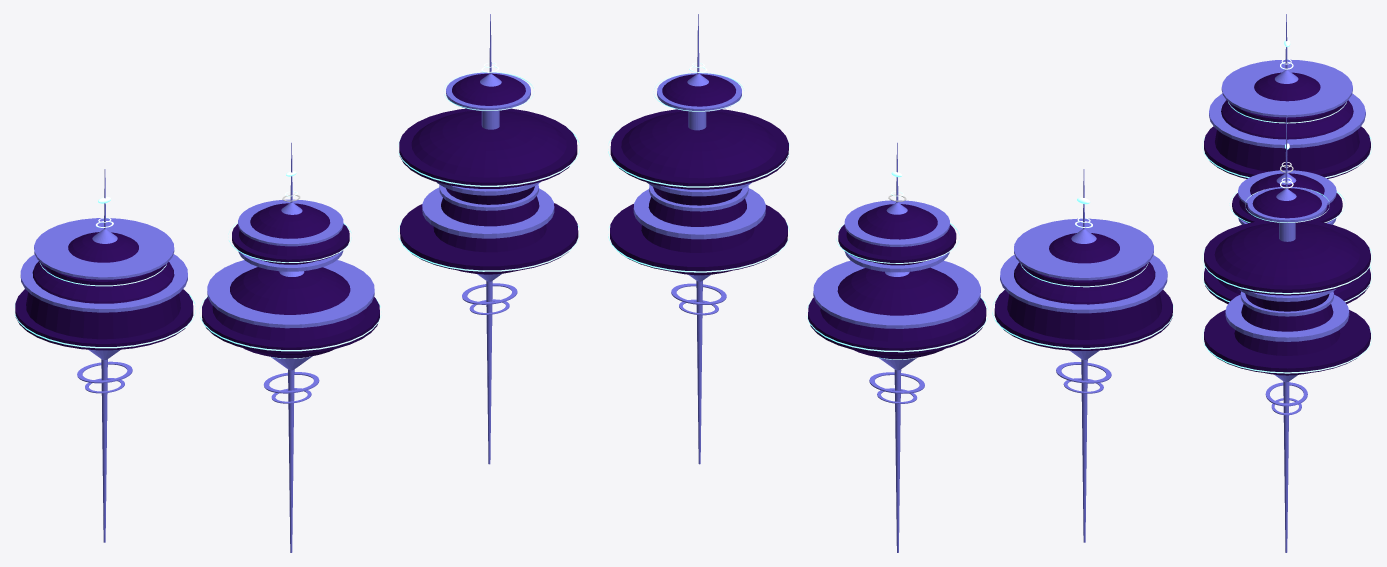
File: contactBuilding.glb
3 renders of one model, left to right at view 1: azimuth 30°, elevation 25°; view 2: azimuth 150°, elevation 25°; view 3: azimuth 270°, elevation 25°, orthographic. The views are drawn at different scales.
Visible parts, largest first — view 1: Sphere.025, Sphere.014, Sphere.023, Cylinder.011, Cylinder.010, Cylinder.016, Cylinder.017, Cylinder.018, Sphere.020, Cylinder.015, Cylinder.008, Cylinder.021 (+12 smaller); view 2: Sphere.025, Sphere.014, Sphere.023, Cylinder.011, Cylinder.010, Cylinder.016, Cylinder.017, Cylinder.018, Sphere.020, Cylinder.015, Cylinder.008, Cylinder.021 (+12 smaller); view 3: Sphere.025, Sphere.014, Cylinder.010, Cylinder.011, Cylinder.017, Cylinder.018, Cylinder.007, Cylinder.021, Cylinder.008, Sphere.026, Sphere.017, Cylinder.015 (+14 smaller).
Part boxes in pixels (box(x1,y1,x2,y2)): Sphere.025: box(411, 110, 566, 177); Sphere.014: box(26, 261, 180, 339); Sphere.023: box(212, 267, 367, 341); Cylinder.011: box(400, 203, 578, 272); Cylinder.010: box(34, 218, 174, 279); Cylinder.016: box(207, 260, 374, 328); Cylinder.017: box(433, 186, 546, 252); Cylinder.018: box(399, 108, 577, 188); Sphere.020: box(239, 203, 341, 255); Cylinder.015: box(202, 297, 379, 353); Cylinder.008: box(15, 289, 193, 350); Cylinder.021: box(422, 187, 554, 238); Sphere.025: box(621, 111, 776, 178); Sphere.014: box(1007, 262, 1161, 339); Sphere.023: box(820, 267, 975, 341); Cylinder.011: box(610, 204, 787, 273); Cylinder.010: box(1014, 218, 1153, 280); Cylinder.016: box(813, 260, 980, 328); Cylinder.017: box(641, 187, 754, 252); Cylinder.018: box(610, 109, 788, 189); Sphere.020: box(846, 204, 949, 256); Cylinder.015: box(808, 297, 986, 354); Cylinder.008: box(994, 290, 1172, 350); Cylinder.021: box(633, 188, 765, 239); Sphere.025: box(1214, 222, 1359, 285); Sphere.014: box(1215, 100, 1359, 171); Cylinder.010: box(1221, 59, 1352, 117); Cylinder.011: box(1204, 309, 1370, 374); Cylinder.017: box(1234, 293, 1340, 355); Cylinder.018: box(1204, 220, 1370, 295); Cylinder.007: box(1209, 93, 1365, 148); Cylinder.021: box(1225, 294, 1349, 341); Cylinder.008: box(1204, 126, 1370, 178); Sphere.026: box(1252, 188, 1321, 218); Sphere.017: box(1254, 72, 1320, 101); Cylinder.015: box(1204, 267, 1370, 304).
Bounding box in the file's own units: 28.91 × 24.97 × 8.42.
